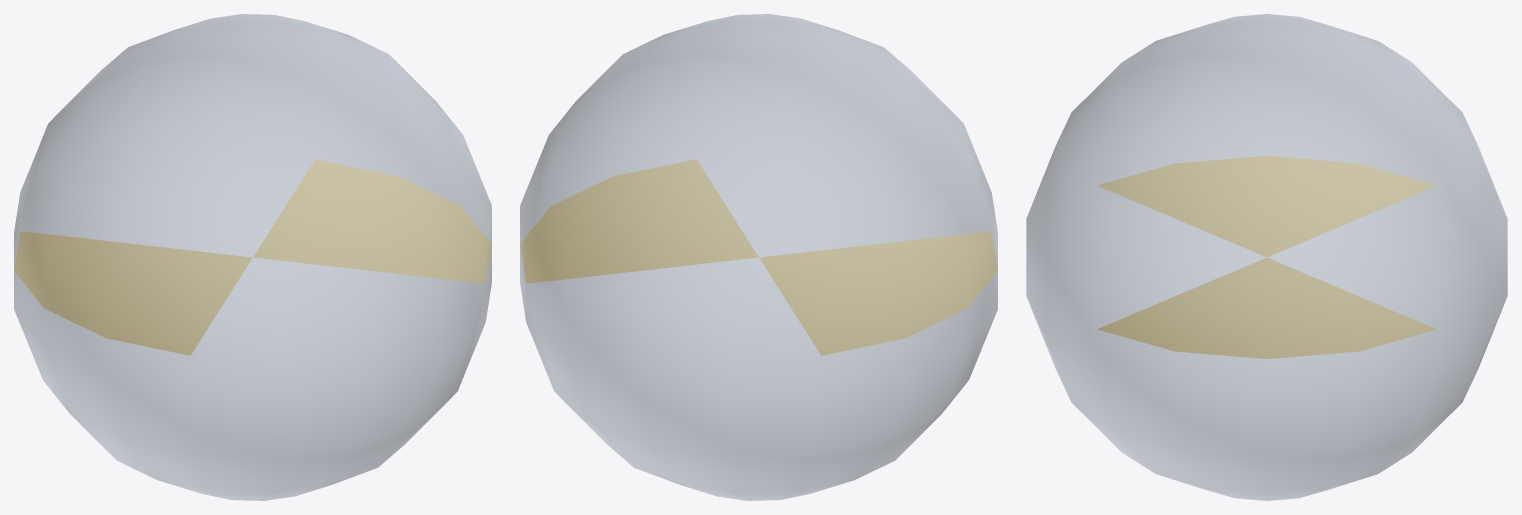
The model's file is marble.glb.
3 views of the same model, side by side, from view 1: azimuth 30°, elevation 25°; view 2: azimuth 150°, elevation 25°; view 3: azimuth 270°, elevation 25° (orthographic).
Parts seen in each view (by area): view 1: marble; view 2: marble; view 3: marble.
Part boxes in pixels (x1,y1,x2,y2): marble: [14, 14, 491, 500]; marble: [520, 14, 997, 500]; marble: [1026, 14, 1507, 500].
Size of the model in its own units: 0.3939 by 0.4 by 0.3939.
